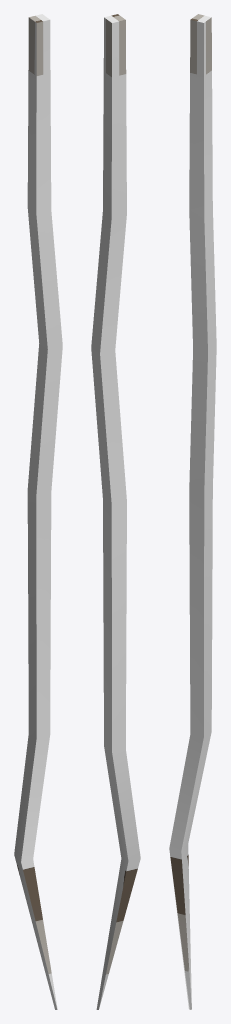
File: synty-tree-vines-02.gltf
3 renders of one model, left to right at view 1: azimuth 30°, elevation 25°; view 2: azimuth 210°, elevation 25°; view 3: azimuth 330°, elevation 25°, orthographic. The views are drawn at different scales.
Visible parts, largest first — view 1: SM_Tree_Vines_02; view 2: SM_Tree_Vines_02; view 3: SM_Tree_Vines_02.
Boxes of the visible parts, left/top/right/bottom form: SM_Tree_Vines_02: left=14, top=14, right=62, bottom=1009; SM_Tree_Vines_02: left=91, top=14, right=140, bottom=1009; SM_Tree_Vines_02: left=169, top=14, right=216, bottom=1009.
Bounding box in the file's own units: 0.131 × 3.05 × 0.1062.
1 material, 1 textured.
